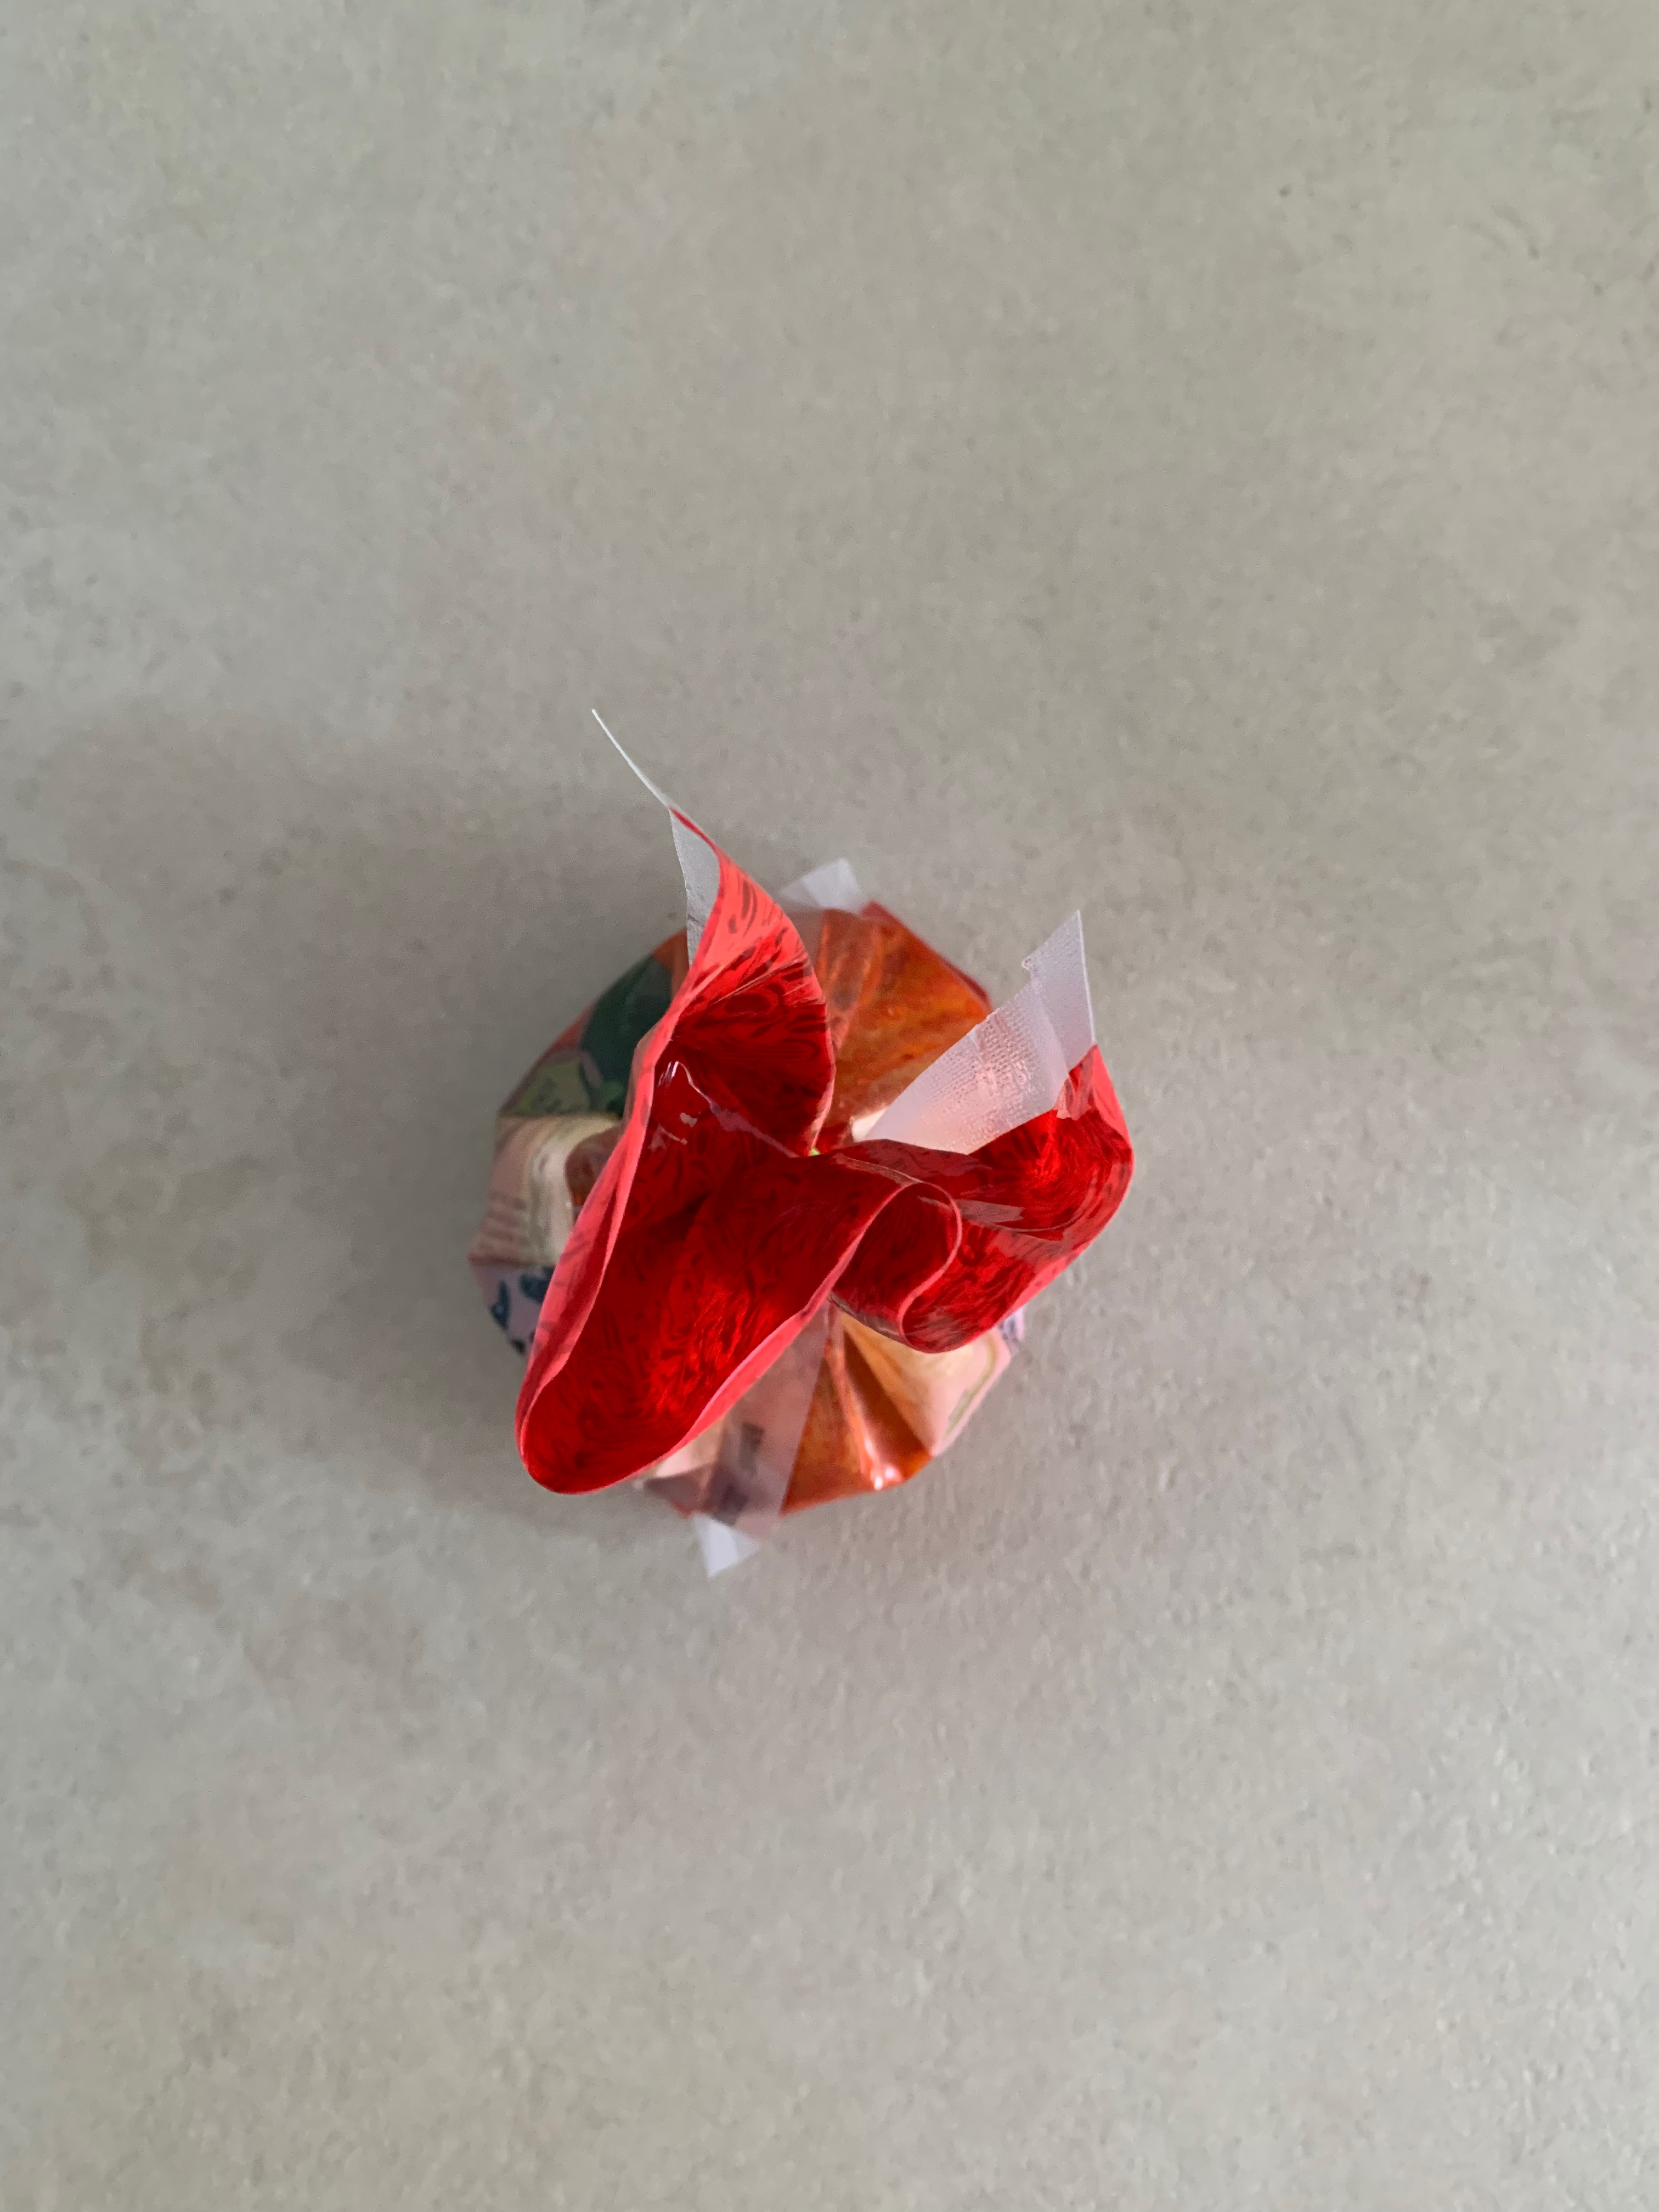kimchi: (471, 892, 1134, 1529)
